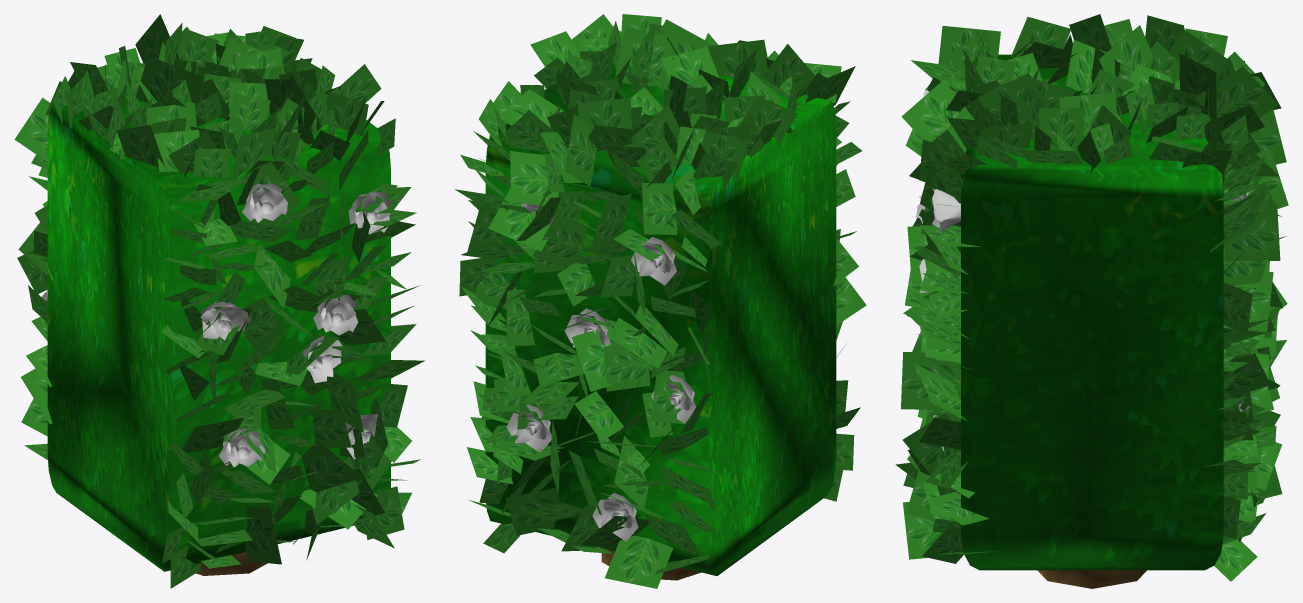
File: sb_obj_outdoor012_Hedge04c.fbx
3 renders of one model, left to right at view 1: azimuth 30°, elevation 25°; view 2: azimuth 150°, elevation 25°; view 3: azimuth 270°, elevation 25°, orthographic. The views are drawn at different scales.
Visible parts, largest first — view 1: leaf_plus_c, sb_obj_outdoor012_Hedge01c, 立方体.022, 立方体.027, 立方体.026, 立方体.024, 立方体.025, 立方体.023, 立方体.028; view 2: leaf_plus_c, sb_obj_outdoor012_Hedge01c, rose_base.067, rose_base.071, rose_base.072, rose_base.068, rose_base.070; view 3: sb_obj_outdoor012_Hedge01c, leaf_plus_c, 立方体.025.
Part boxes in pixels (<box>): leaf_plus_c: <box>14,14,424,588</box>; sb_obj_outdoor012_Hedge01c: <box>47,70,390,575</box>; 立方体.022: <box>313,294,358,335</box>; 立方体.027: <box>200,301,250,340</box>; 立方体.026: <box>242,183,287,222</box>; 立方体.024: <box>218,428,265,467</box>; 立方体.025: <box>348,191,391,234</box>; 立方体.023: <box>302,336,342,383</box>; 立方体.028: <box>345,414,384,458</box>; leaf_plus_c: <box>455,14,866,588</box>; sb_obj_outdoor012_Hedge01c: <box>485,62,836,580</box>; rose_base.067: <box>631,237,676,285</box>; rose_base.071: <box>592,493,638,541</box>; rose_base.072: <box>506,404,551,451</box>; rose_base.068: <box>564,308,610,347</box>; rose_base.070: <box>651,375,695,423</box>; sb_obj_outdoor012_Hedge01c: <box>961,54,1223,588</box>; leaf_plus_c: <box>895,14,1288,581</box>; 立方体.025: <box>932,188,960,232</box>.
Size of the model in its own units: 1.25 by 2.15 by 1.5.
